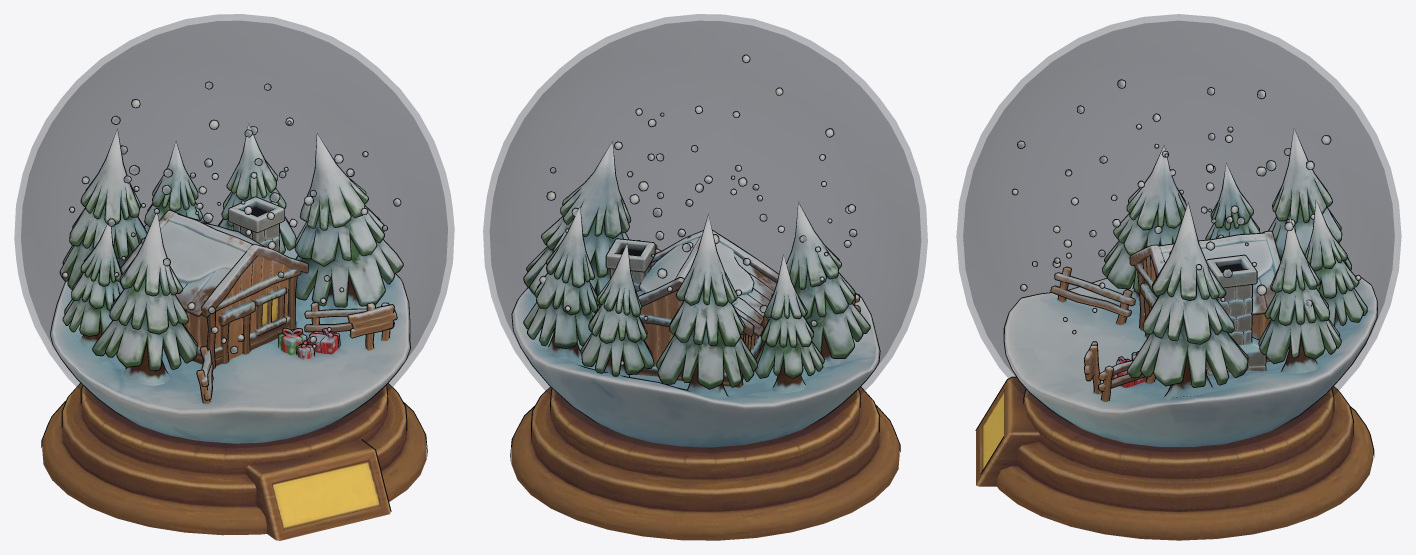
File: christmas_ball-transformed.glb
3 renders of one model, left to right at view 1: azimuth 30°, elevation 25°; view 2: azimuth 150°, elevation 25°; view 3: azimuth 270°, elevation 25°, orthographic.
Visible parts, largest first — view 1: glass, christmass_ball; view 2: glass, christmass_ball; view 3: glass, christmass_ball.
Boxes of the visible parts, box(x1,y1,x2,y2) form: glass: box(14, 14, 454, 447); christmass_ball: box(41, 81, 427, 540); glass: box(483, 14, 927, 452); christmass_ball: box(510, 54, 900, 540); glass: box(956, 14, 1401, 451); christmass_ball: box(975, 79, 1377, 540).
Size of the model in its own units: 200 by 210 by 200.
3 materials, 2 textured.
